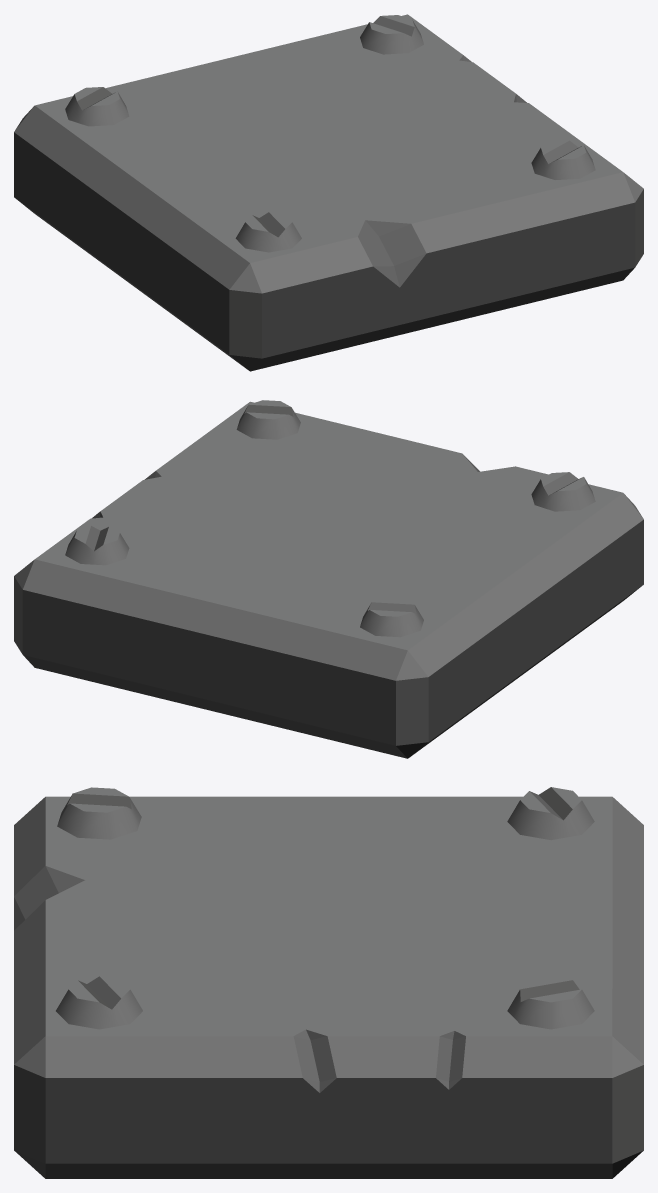
Rendered from m_kub_metalOld_flatPlate.FBX.
3 views of the same model, one above another, from view 1: azimuth 30°, elevation 25°; view 2: azimuth 150°, elevation 25°; view 3: azimuth 270°, elevation 25° (orthographic). The views are drawn at different scales.
Visible parts, largest first — view 1: m_kub_metalOld_flatPlate; view 2: m_kub_metalOld_flatPlate; view 3: m_kub_metalOld_flatPlate.
Boxes of the visible parts, x1,y1,x2,y2 form: m_kub_metalOld_flatPlate: (14, 14, 643, 371); m_kub_metalOld_flatPlate: (14, 400, 643, 758); m_kub_metalOld_flatPlate: (14, 787, 643, 1178).
Bounding box in the file's own units: 2 × 0.5761 × 2.
